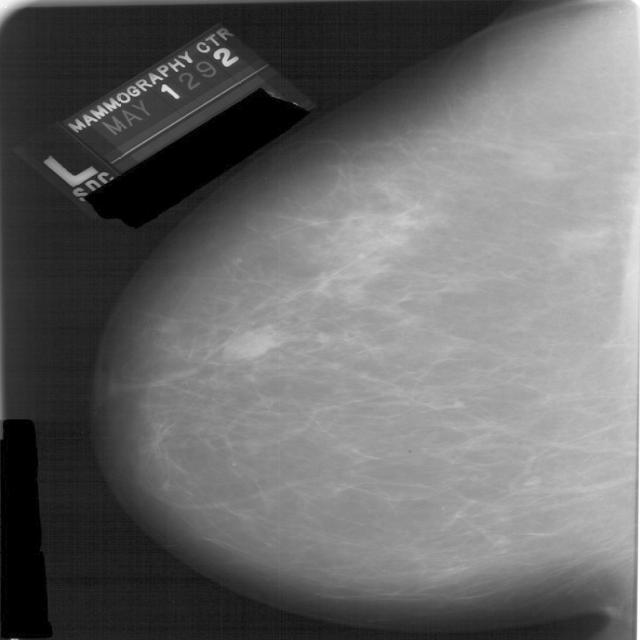tumour: (220, 324, 284, 360)
